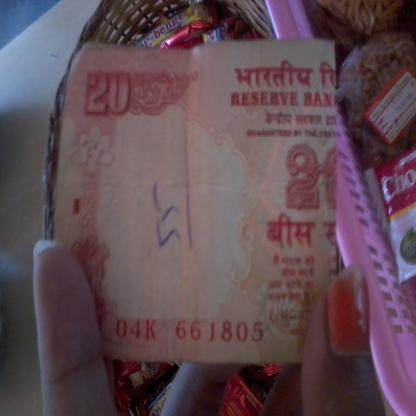Old20Front: (64, 46, 336, 359)
